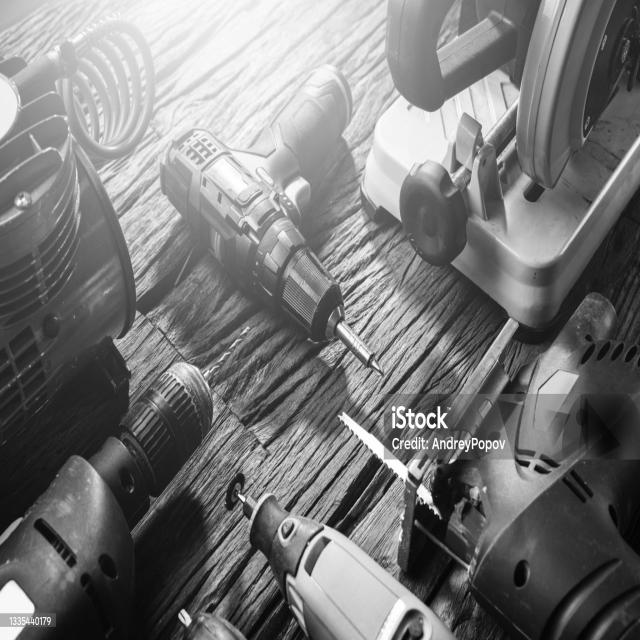corless_drill: (147, 41, 391, 387)
electric drill: (0, 311, 261, 640)
